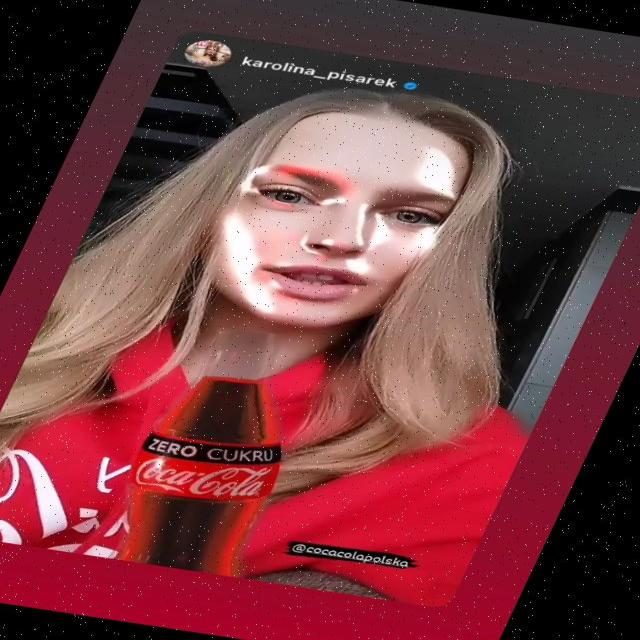coca-cola: (89, 321, 354, 576)
